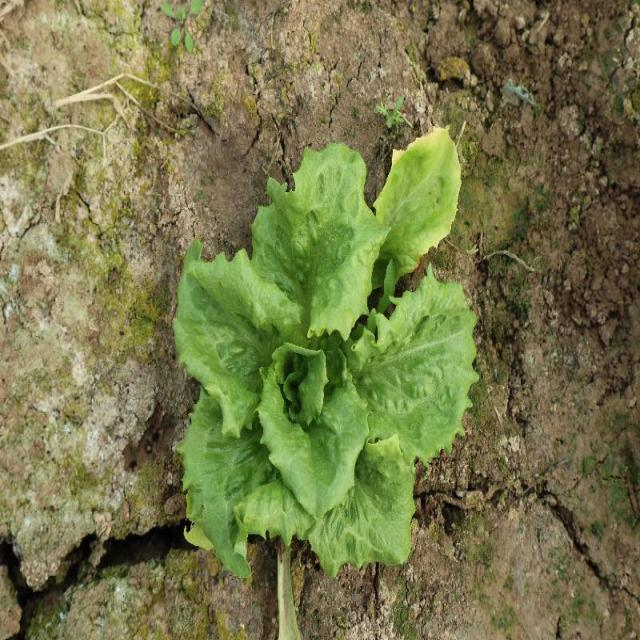crop: (171, 123, 481, 584)
